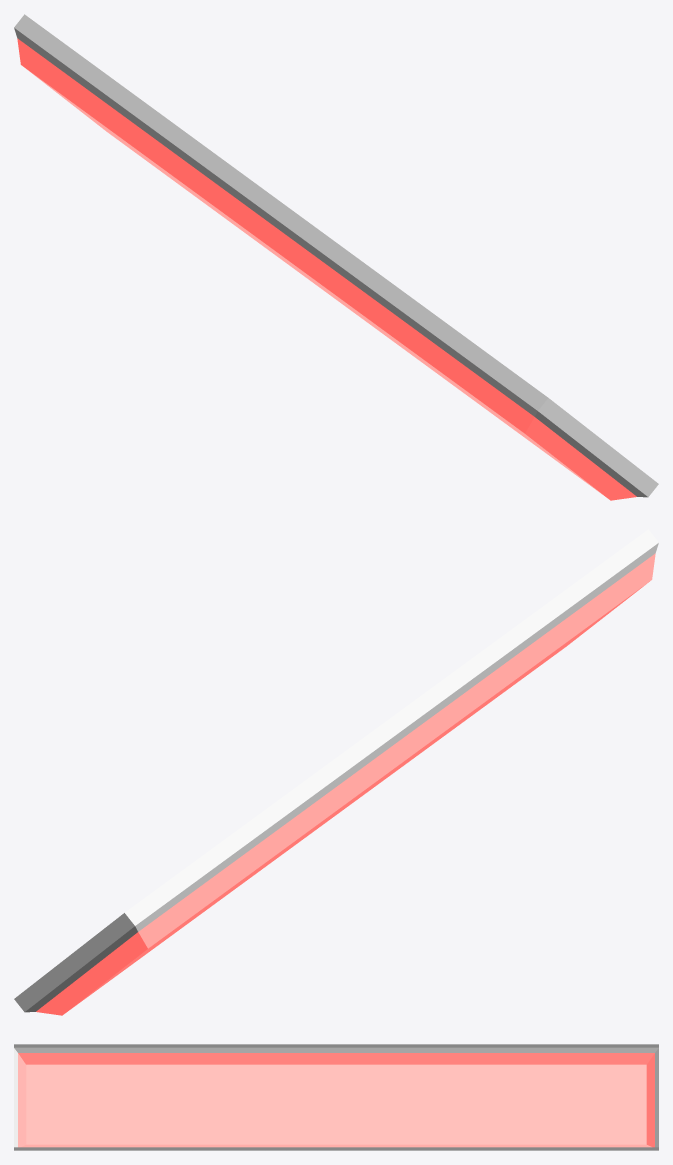
The model's file is light.fbx.
3 views of the same model, one above another, from view 1: azimuth 30°, elevation 25°; view 2: azimuth 150°, elevation 25°; view 3: azimuth 270°, elevation 25° (orthographic). The views are drawn at different scales.
Visible parts, largest first — view 1: Light; view 2: Light; view 3: Light.
Boxes of the visible parts, bbox=[...] form: Light: bbox=[14, 14, 658, 500]; Light: bbox=[14, 529, 658, 1015]; Light: bbox=[14, 1044, 658, 1150].
Size of the model in its own units: 26.21 by 25.78 by 192.
